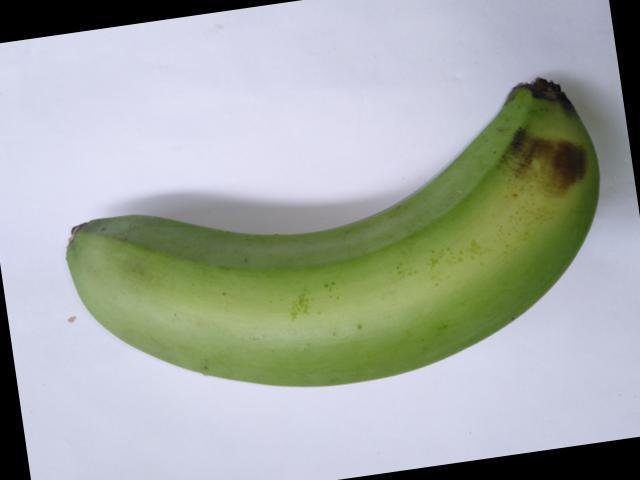freshunripe: (49, 65, 607, 413)
